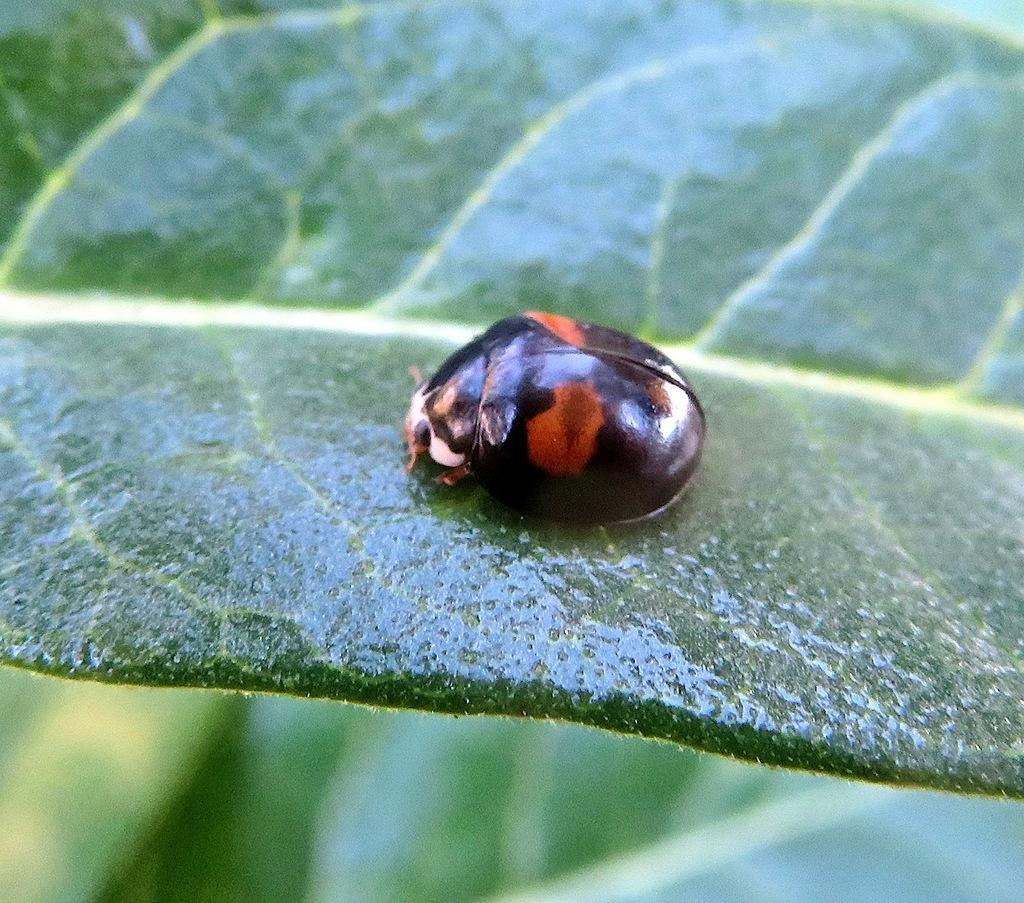ladybug: (404, 309, 711, 531)
